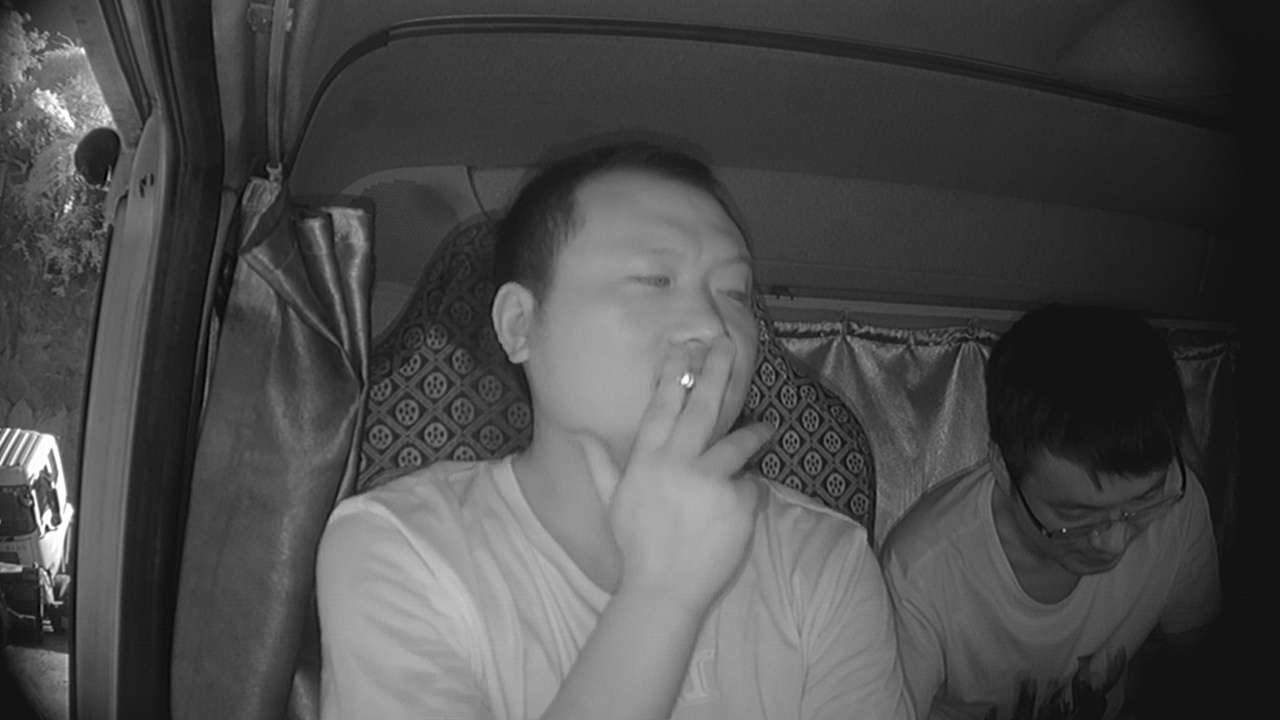hand: (629, 343, 777, 536)
